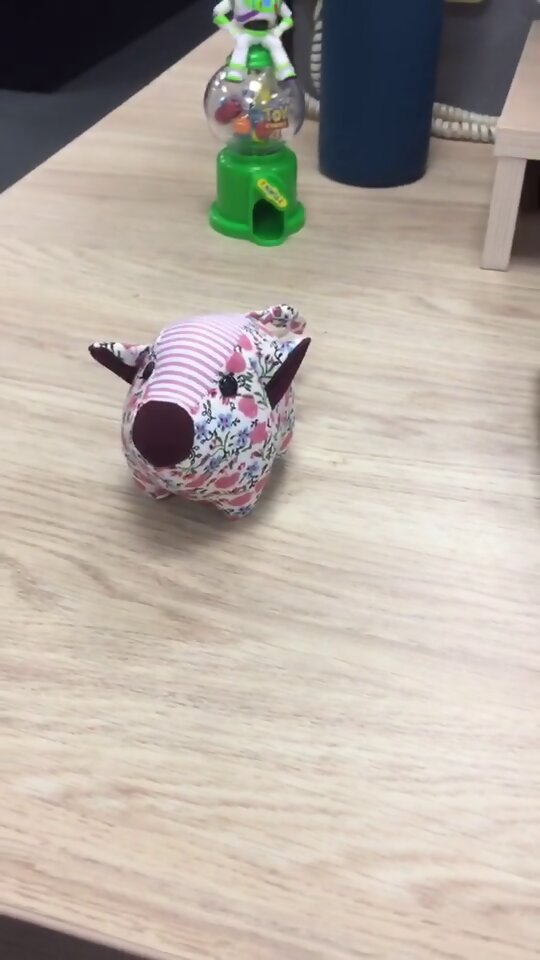pig: (83, 297, 318, 526)
